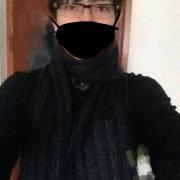WRONG: (55, 2, 119, 66)
